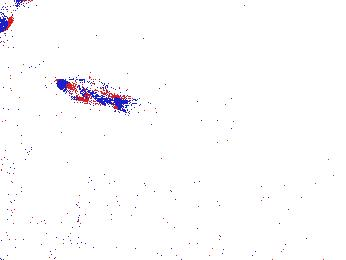X-ray fish: (51, 222, 95, 250)
red belly glassfish: (56, 75, 123, 109)
